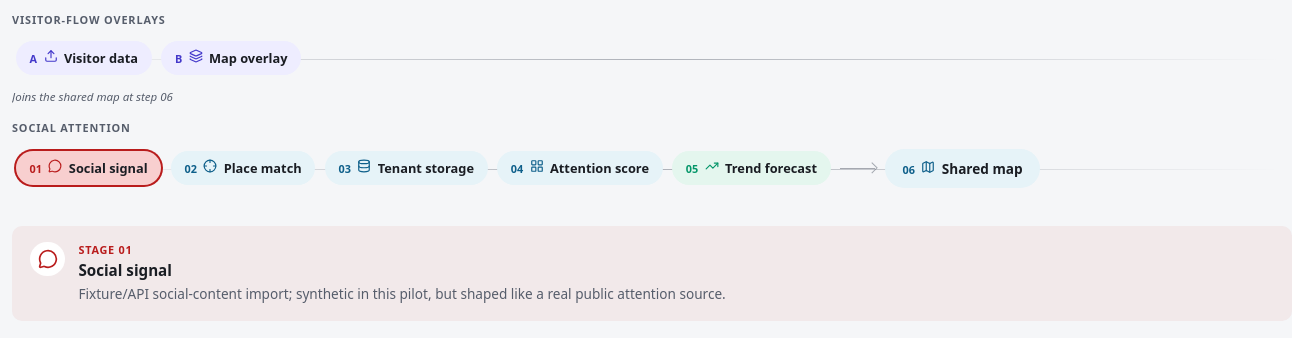
Test: PipelineStepper › keeps the merge step as part of the selectable editorial flow
The image size is (1292, 338).
Click the button "06 Shared map": (963,168) top-left (885, 149), bottom-right (1040, 188)
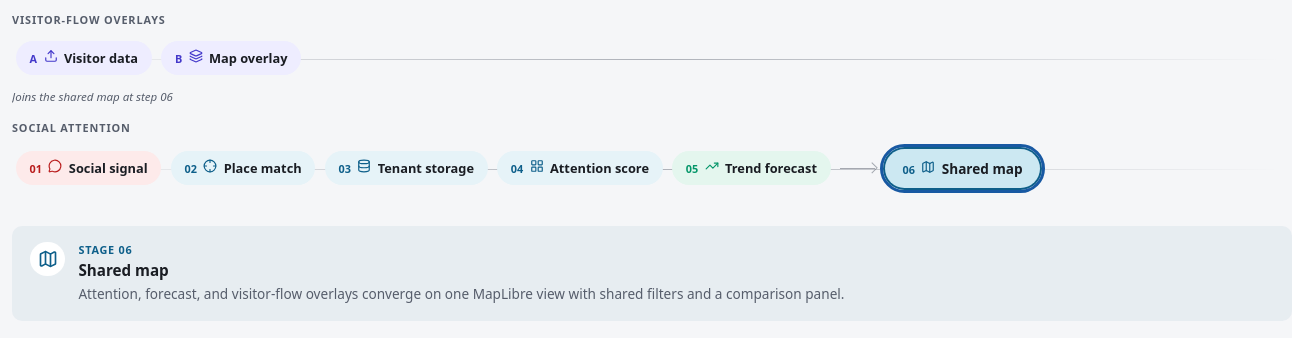
Result: the message shows "Stage 06" at top-left (78, 242), bottom-right (132, 257)
Result: the message shows "MapLibre view" at top-left (78, 284), bottom-right (844, 303)
